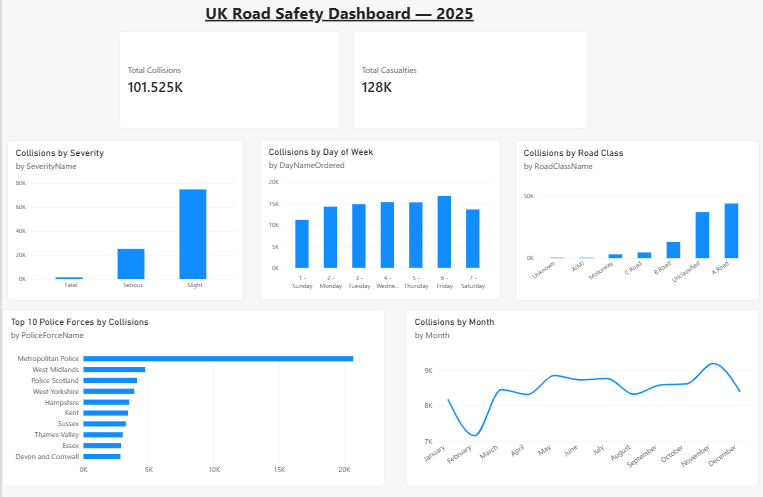

The dashboard page shown, as its layout file describes it:
{"tool":"powerbi","page":{"name":"Page 1","canvas":[1920,1080],"ordinal":0},"visuals":[{"type":"cardVisual","fields":{"Data":["CountNonNull(dft-road-casualty-statistics-collision-2025.collision_index)"]},"box":[230,154,434,192],"z":0},{"type":"cardVisual","fields":{"Data":["Sum(dft-road-casualty-statistics-collision-2025.number_of_casualties)"]},"box":[690,154,460,192],"z":1000},{"type":"clusteredColumnChart","fields":{"Category":["dft-road-casualty-statistics-collision-2025.SeverityName"],"Y":["CountNonNull(dft-road-casualty-statistics-collision-2025.collision_index)"]},"box":[10,366.7,465,315],"z":2000},{"type":"lineChart","fields":{"Category":["dft-road-casualty-statistics-collision-2025.date.Variation.Date Hierarchy.Month"],"Y":["CountNonNull(dft-road-casualty-statistics-collision-2025.collision_index)"]},"box":[793.3,700,693.3,347.8],"z":3000},{"type":"clusteredBarChart","fields":{"Category":["dft-road-casualty-statistics-collision-2025.PoliceForceName"],"Y":["CountNonNull(dft-road-casualty-statistics-collision-2025.collision_index)"]},"box":[0,700,752.2,347.8],"z":4000},{"type":"clusteredColumnChart","fields":{"Category":["dft-road-casualty-statistics-collision-2025.DayNameOrdered"],"Y":["CountNonNull(dft-road-casualty-statistics-collision-2025.collision_index)"]},"box":[506,366,472,316],"z":5000},{"type":"clusteredColumnChart","fields":{"Category":["dft-road-casualty-statistics-collision-2025.RoadClassName"],"Y":["CountNonNull(dft-road-casualty-statistics-collision-2025.collision_index)"]},"box":[1006.7,366.7,480,315],"z":6000},{"type":"textbox","box":[348,94,630,62],"z":8000}]}

Visuals, with their boxes on the page's 1920x1080 design canvas (x1, y1, x2, y2). These are canvas units, not pixel positions in the 763x497 screenshot, which may show the page scaled, cropped or inside an application window:
cardVisual - CountNonNull(dft-road-casualty-statistics-collision-2025.collision_index): box(230, 154, 664, 346)
cardVisual - Sum(dft-road-casualty-statistics-collision-2025.number_of_casualties): box(690, 154, 1150, 346)
clusteredColumnChart - dft-road-casualty-statistics-collision-2025.SeverityName x CountNonNull(dft-road-casualty-statistics-collision-2025.collision_index): box(10, 367, 475, 682)
lineChart - dft-road-casualty-statistics-collision-2025.date.Variation.Date Hierarchy.Month x CountNonNull(dft-road-casualty-statistics-collision-2025.collision_index): box(793, 700, 1487, 1048)
clusteredBarChart - dft-road-casualty-statistics-collision-2025.PoliceForceName x CountNonNull(dft-road-casualty-statistics-collision-2025.collision_index): box(0, 700, 752, 1048)
clusteredColumnChart - dft-road-casualty-statistics-collision-2025.DayNameOrdered x CountNonNull(dft-road-casualty-statistics-collision-2025.collision_index): box(506, 366, 978, 682)
clusteredColumnChart - dft-road-casualty-statistics-collision-2025.RoadClassName x CountNonNull(dft-road-casualty-statistics-collision-2025.collision_index): box(1007, 367, 1487, 682)
textbox: box(348, 94, 978, 156)
